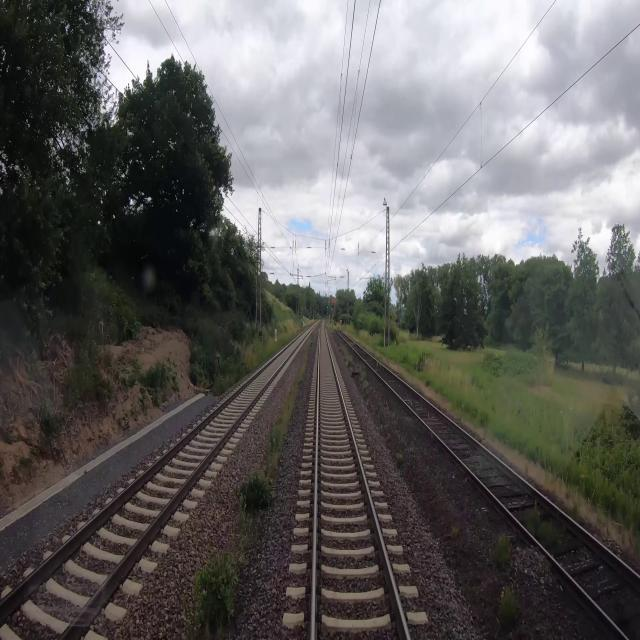Plant: (194, 353, 309, 639), (488, 532, 512, 564), (498, 587, 517, 625), (451, 523, 458, 539), (396, 453, 404, 464)
